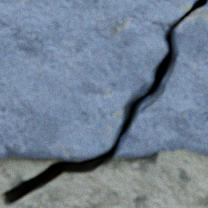broken_brick: (0, 0, 196, 159), (115, 3, 207, 156)
crack: (0, 0, 207, 207)
